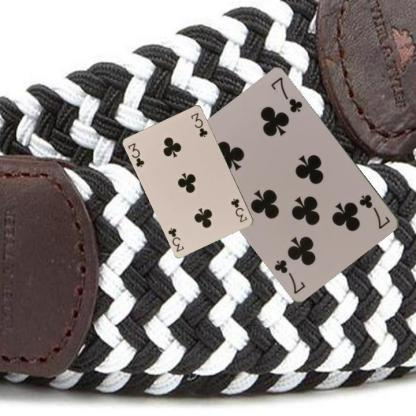3c: (228, 196, 249, 224), (126, 140, 146, 169)
7c: (356, 191, 392, 231)
